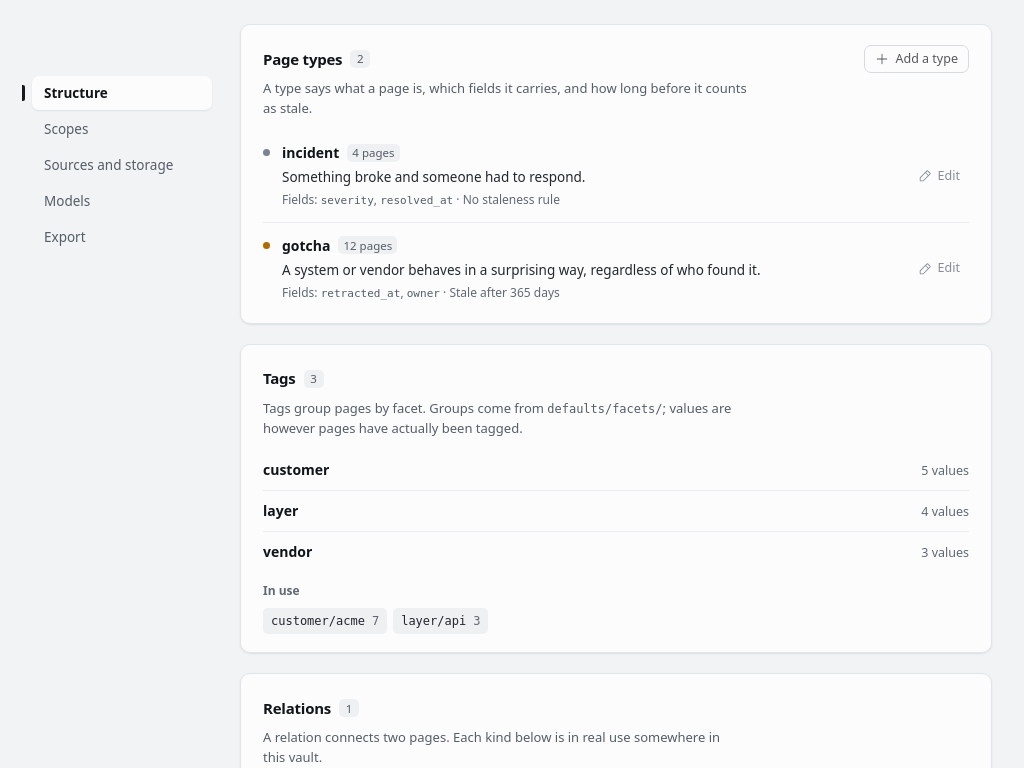
Scenario: SettingsScreen › shows real scope counts and an honest 'not read by any agent' line
Expected: the text "incident" is shown, [282,142,339,163]
Click the tab "Scopes" at (122, 129), box [32,112,212,146]
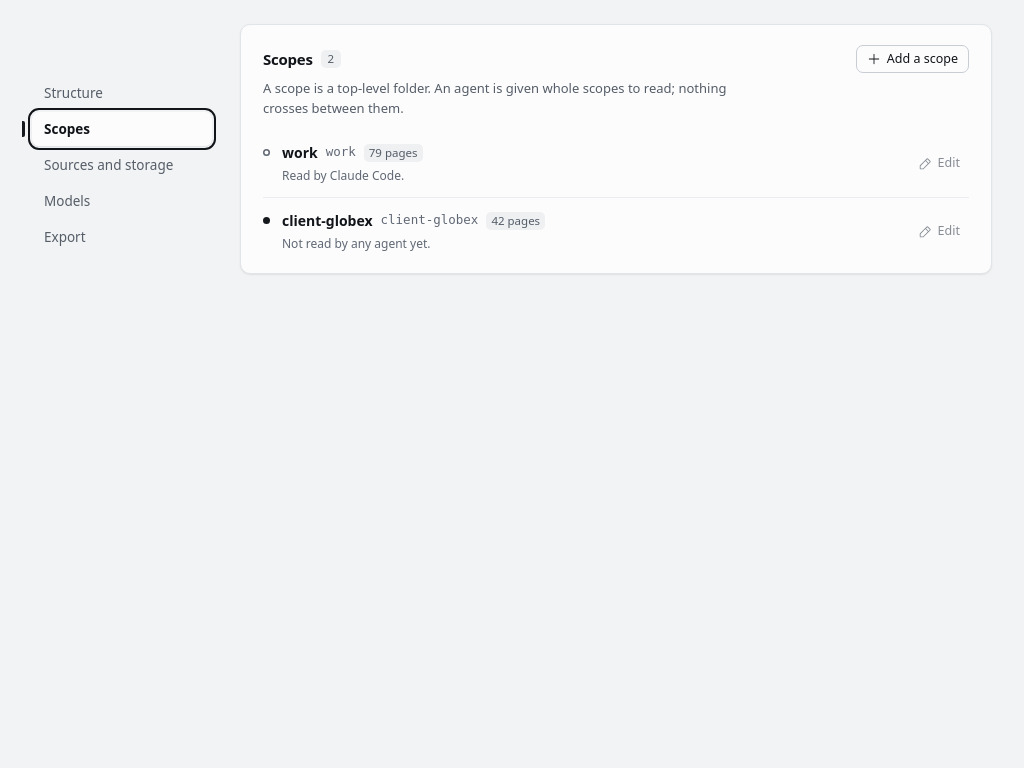
Expected: the text "work" is shown 2 times, [282,142,318,163]; [326,143,356,162]
Expected: the text "79 pages" is shown, [364,144,423,162]
Expected: the text "Read by Claude Code." is shown, [282,167,404,184]
